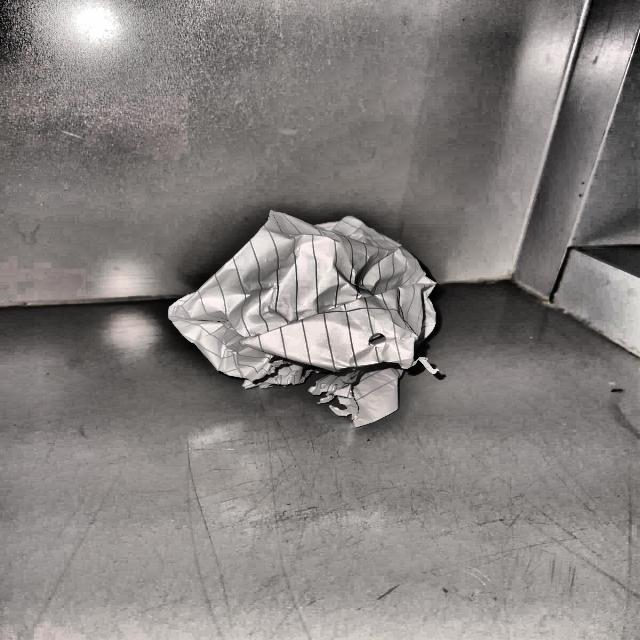Paper: (171, 204, 455, 423)
